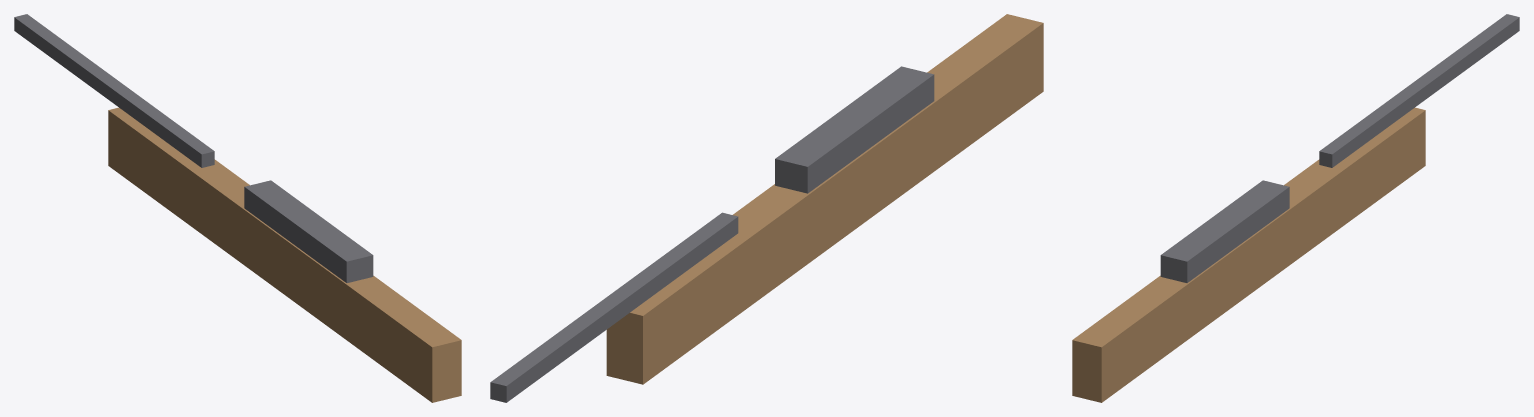
The model's file is rifle.glb.
3 renders of one model, left to right at view 1: azimuth 30°, elevation 25°; view 2: azimuth 150°, elevation 25°; view 3: azimuth 330°, elevation 25°, orthographic. The views are drawn at different scales.
Visible parts, largest first — view 1: stock, receiver, barrel; view 2: stock, receiver, barrel; view 3: stock, receiver, barrel.
Part boxes in pixels (x1,y1,x2,y2): stock: (108,107,461,402); receiver: (244,180,373,282); barrel: (14,14,214,167); stock: (606,14,1043,384); receiver: (775,66,934,193); barrel: (490,212,738,402); stock: (1072,107,1425,402); receiver: (1160,180,1289,282); barrel: (1319,14,1519,167).
Size of the model in its own units: 0.05 by 0.125 by 1.25.
